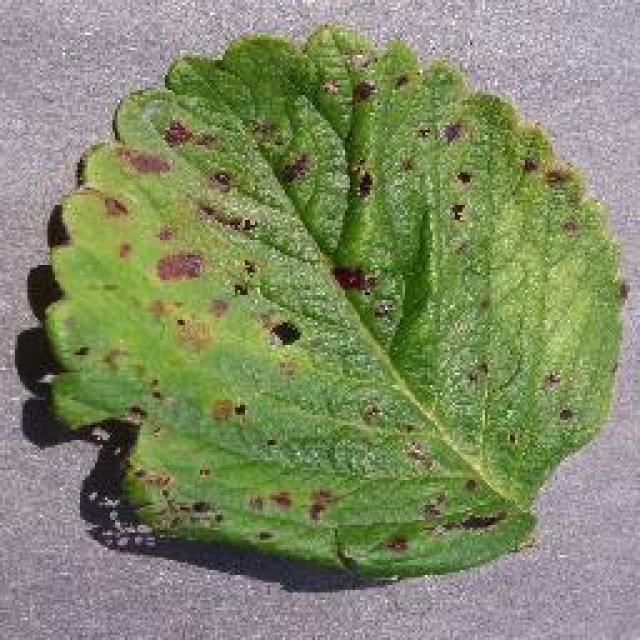Strawberry leaf scorch: (71, 82, 446, 540)
